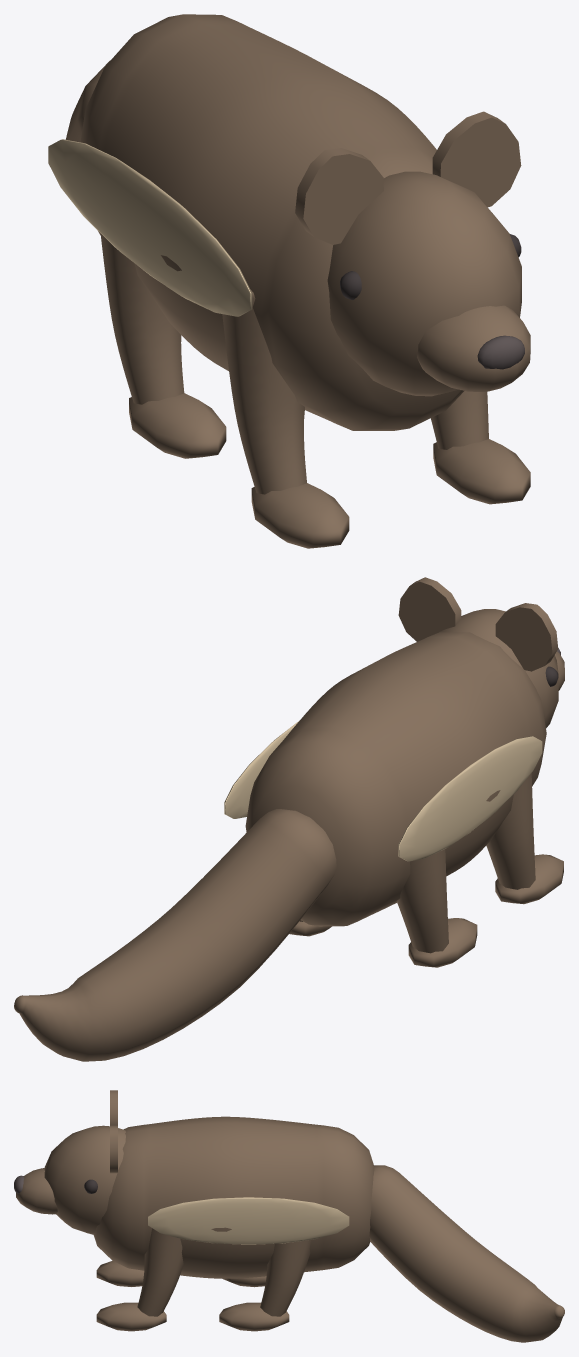
File: polar-tundra-and-alpine-fauna-wolverine-2458380b__6064.glb
3 views of the same model, one above another, from view 1: azimuth 30°, elevation 25°; view 2: azimuth 150°, elevation 25°; view 3: azimuth 270°, elevation 25° (orthographic). The views are drawn at different scales.
Parts seen in each view (by area): view 1: wolverine; view 2: wolverine; view 3: wolverine.
Part boxes in pixels (box(x1,y1,x2,y2)): wolverine: box(48, 14, 530, 548); wolverine: box(14, 577, 564, 1061); wolverine: box(14, 1090, 564, 1342).
Bounding box in the file's own units: 0.5268 × 0.5802 × 1.47.
